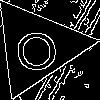O: (12, 22, 60, 72)
